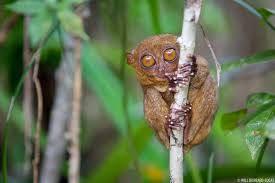tarsier: (123, 32, 220, 149)
